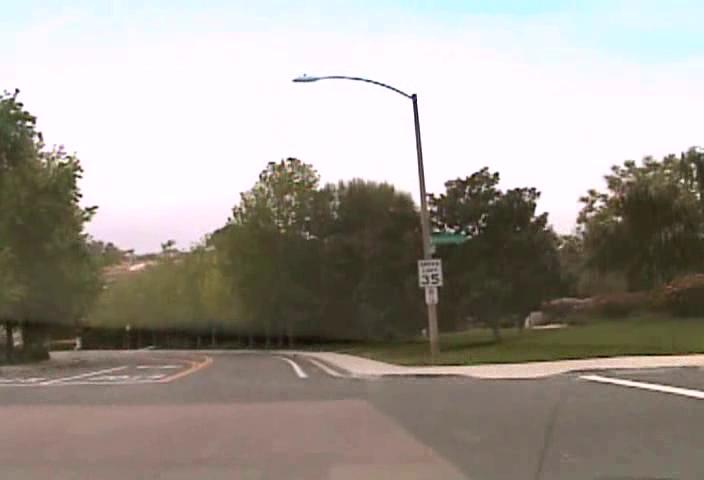speedLimit35: (417, 258, 442, 287)
